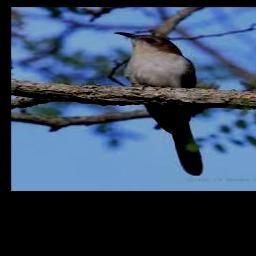Cuckoo: (113, 32, 204, 175)
